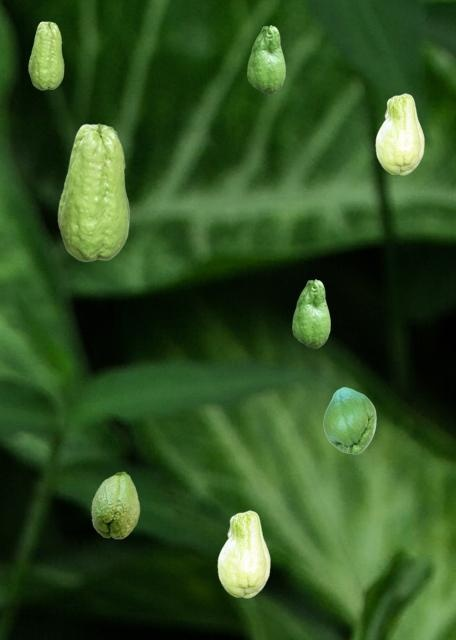sayote: (57, 123, 129, 261), (217, 510, 269, 597), (375, 93, 423, 174), (323, 387, 375, 453), (91, 471, 139, 538), (292, 279, 329, 347), (247, 25, 284, 93), (28, 21, 63, 89)
